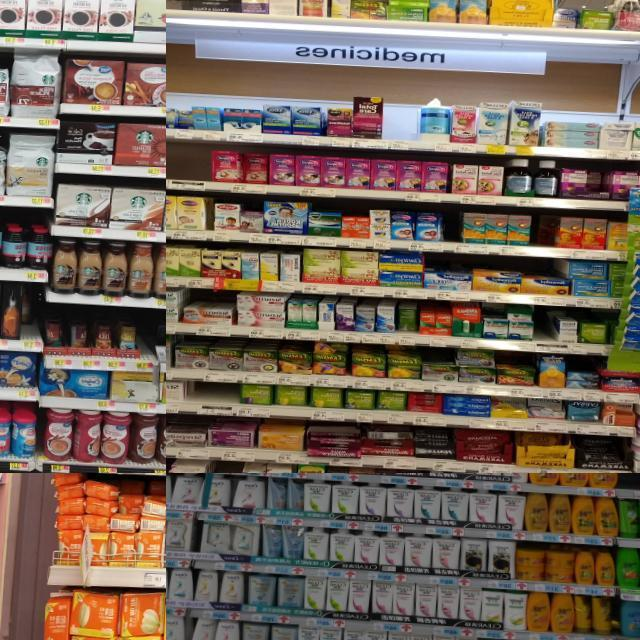Imprecise: (115, 480, 164, 568), (16, 285, 41, 336)
